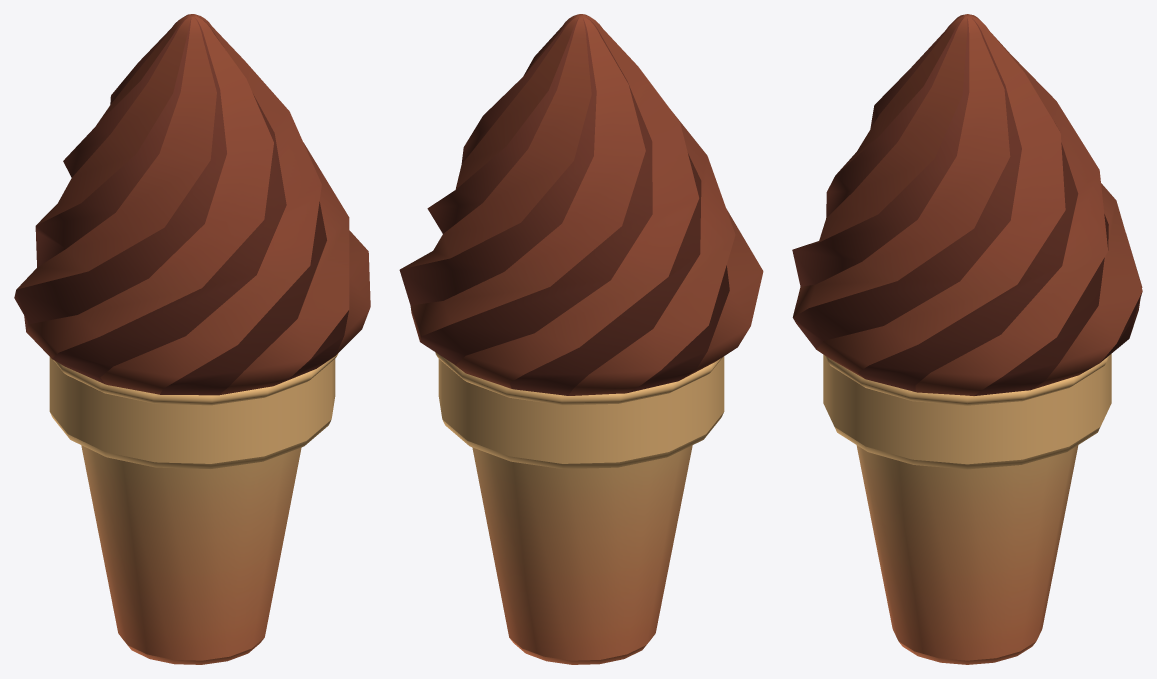
The model's file is Icecream_V2_02.fbx.
3 views of the same model, side by side, from view 1: azimuth 30°, elevation 25°; view 2: azimuth 150°, elevation 25°; view 3: azimuth 270°, elevation 25° (orthographic).
Parts seen in each view (by area): view 1: Icecream_V2_02; view 2: Icecream_V2_02; view 3: Icecream_V2_02.
Boxes of the visible parts, x1=… form: Icecream_V2_02: x1=14, y1=14, x2=370, y2=664; Icecream_V2_02: x1=399, y1=14, x2=763, y2=664; Icecream_V2_02: x1=792, y1=14, x2=1142, y2=664.
Size of the model in its own units: 27.73 by 54.33 by 27.73.
